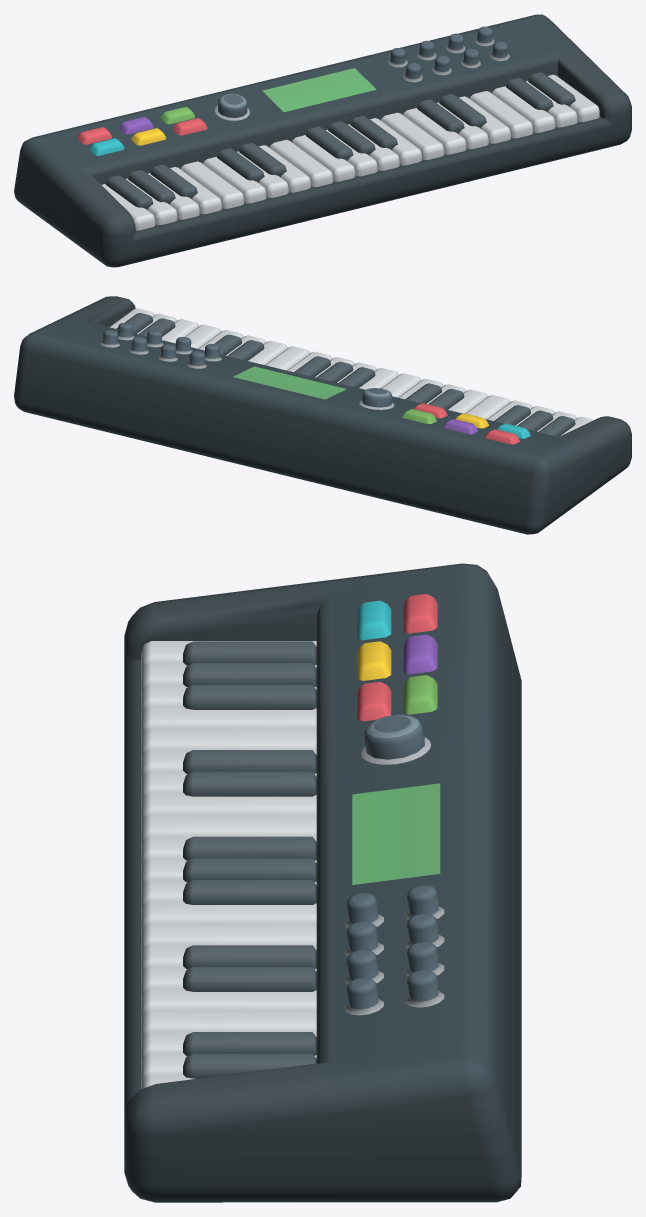
File: Synthesizer_01.glb
3 renders of one model, top to bottom at view 1: azimuth 30°, elevation 25°; view 2: azimuth 150°, elevation 25°; view 3: azimuth 270°, elevation 25°, orthographic. The views are drawn at different scales.
Parts seen in each view (by area): view 1: Synthesizer_01; view 2: Synthesizer_01; view 3: Synthesizer_01.
Boxes of the visible parts, x1,y1,x2,y2 form: Synthesizer_01: (14,14,631,267); Synthesizer_01: (14,296,631,534); Synthesizer_01: (124,563,521,1202).
Bounding box in the file's own units: 1 × 0.1477 × 0.3248.
1 material, 1 textured.
